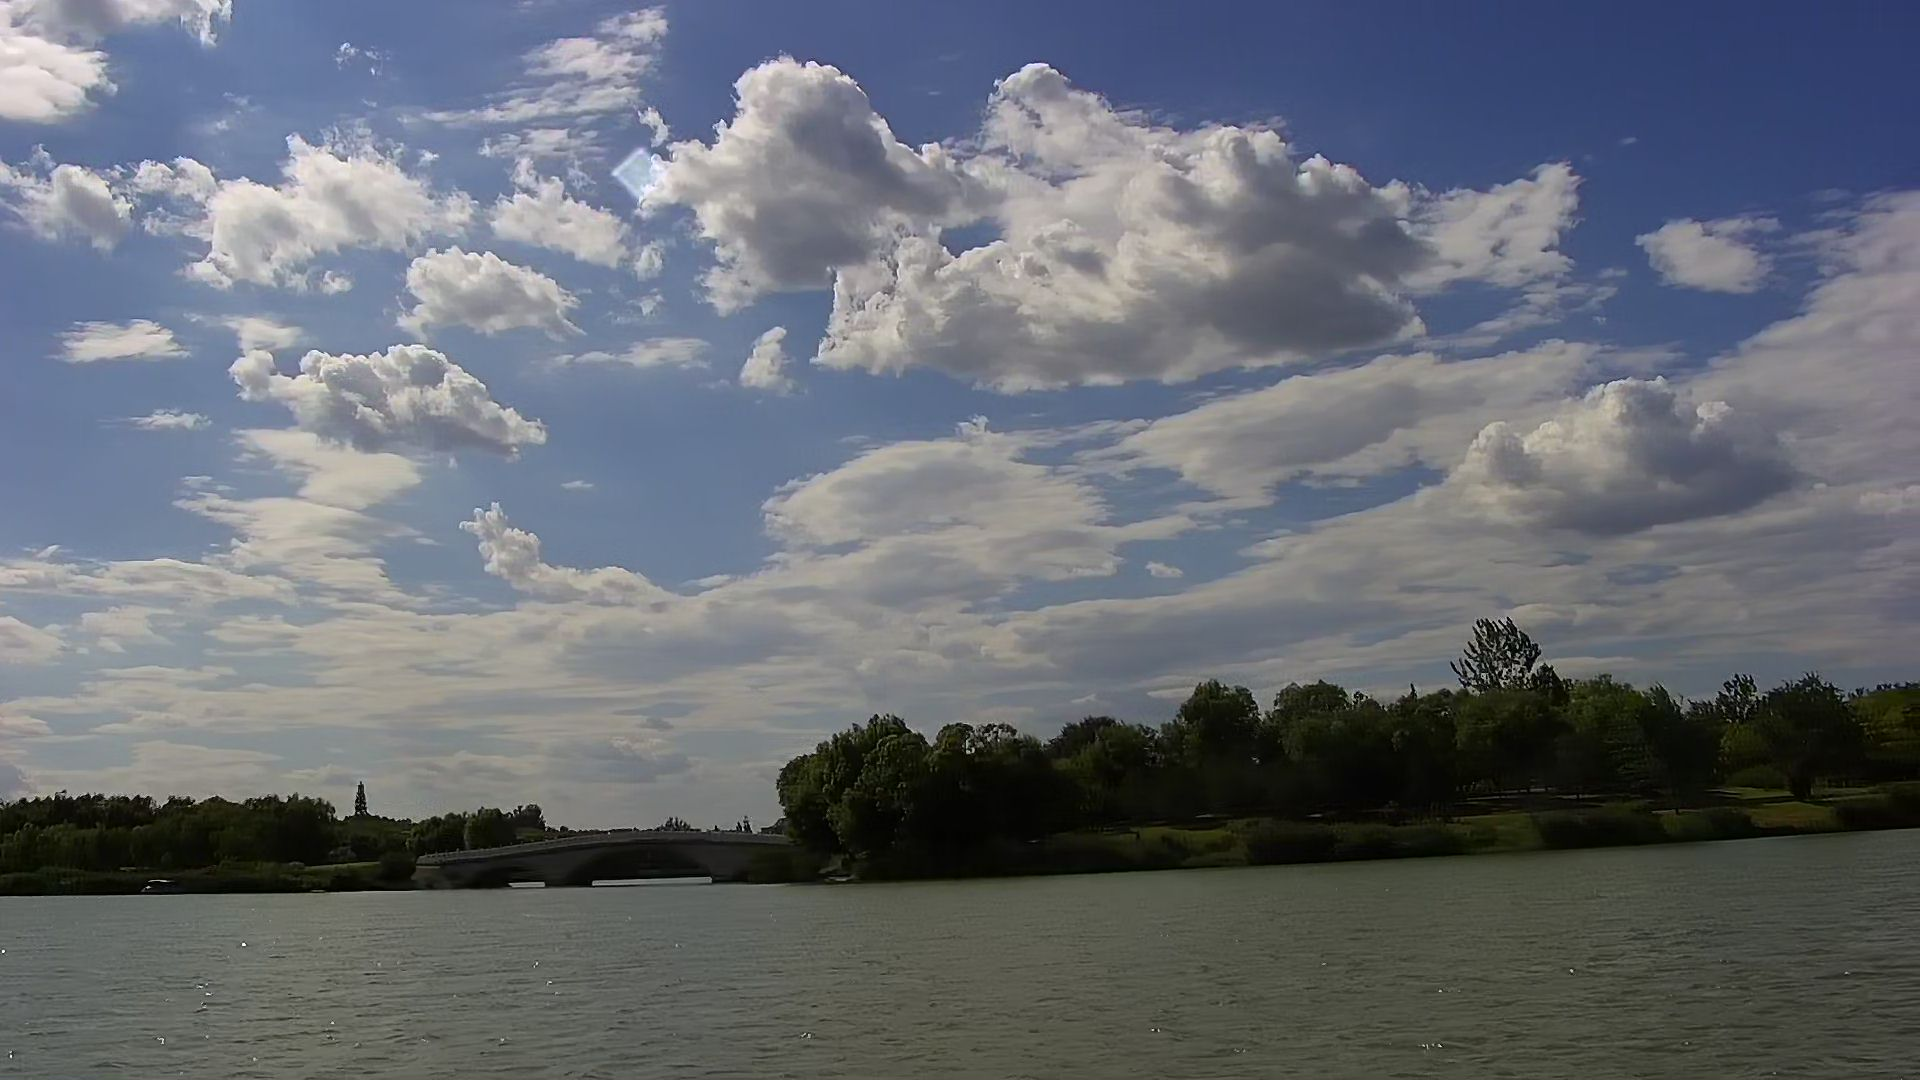bridge: (418, 827, 795, 887)
